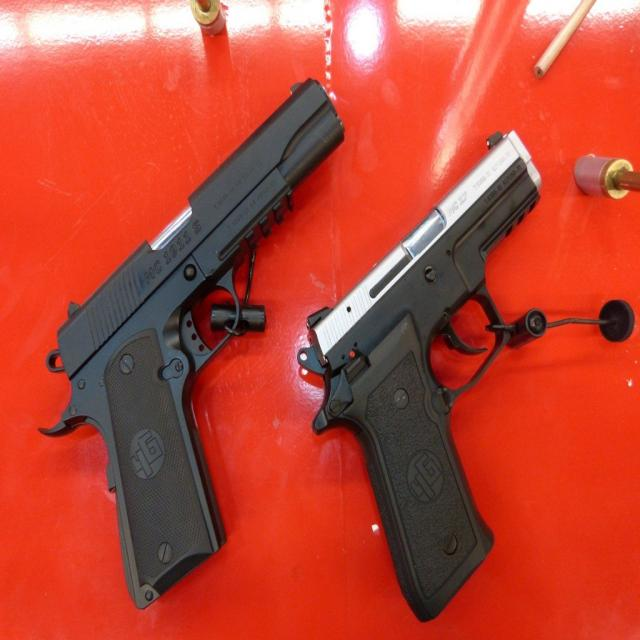pistol: (36, 78, 348, 610), (296, 126, 544, 628)
